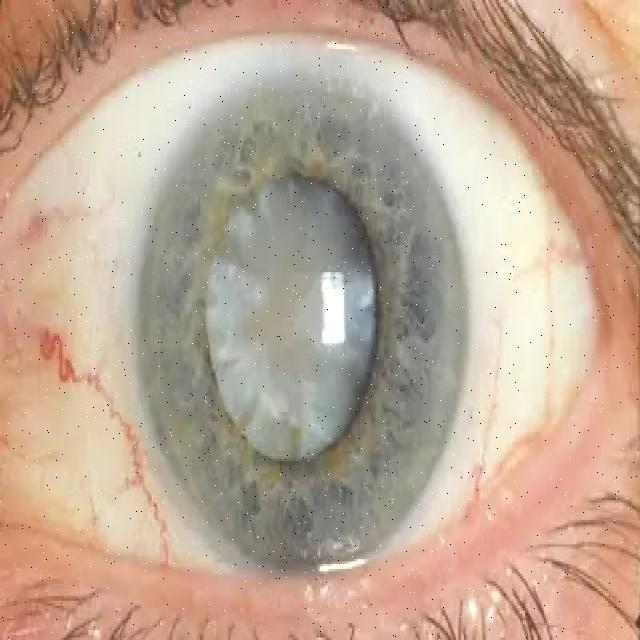Cataract: (125, 68, 499, 566)
